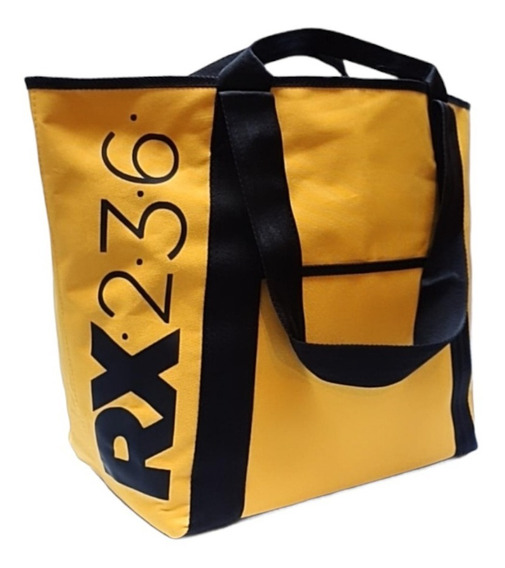cartera: (22, 24, 483, 541)
